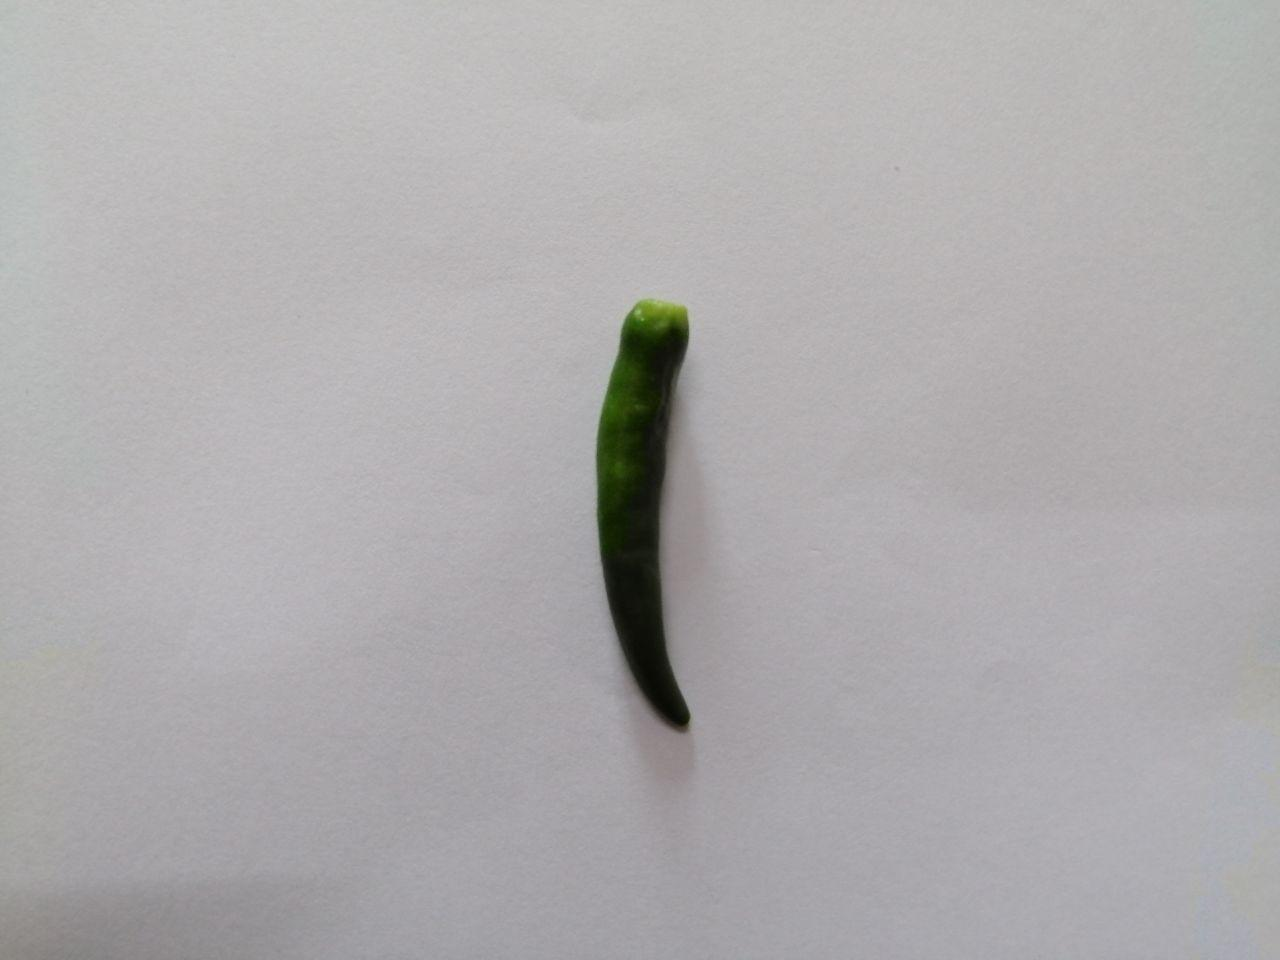lada hijau: (571, 274, 760, 749)
